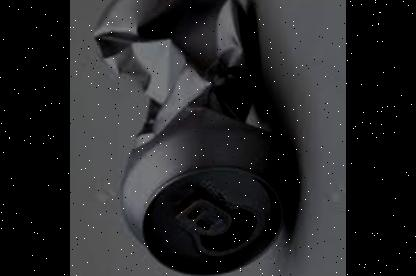Can: (93, 0, 292, 276)
